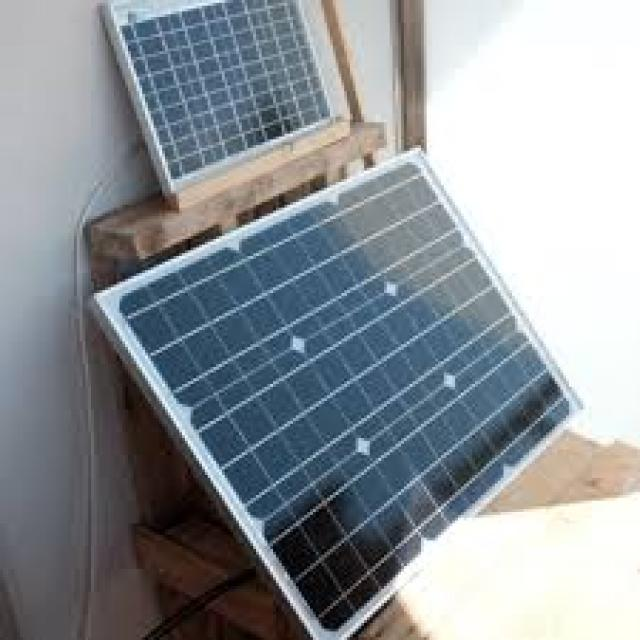no faulty: (119, 166, 569, 632), (114, 0, 322, 175)
